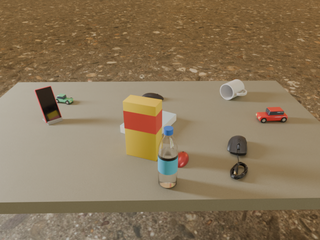bottle: (158, 125, 178, 188)
box: (123, 95, 163, 161)
cup: (220, 80, 247, 100)
mouse: (227, 136, 247, 157), (178, 152, 189, 168)
phone: (34, 86, 62, 123)
toy_car: (256, 107, 288, 123), (55, 94, 74, 104)
